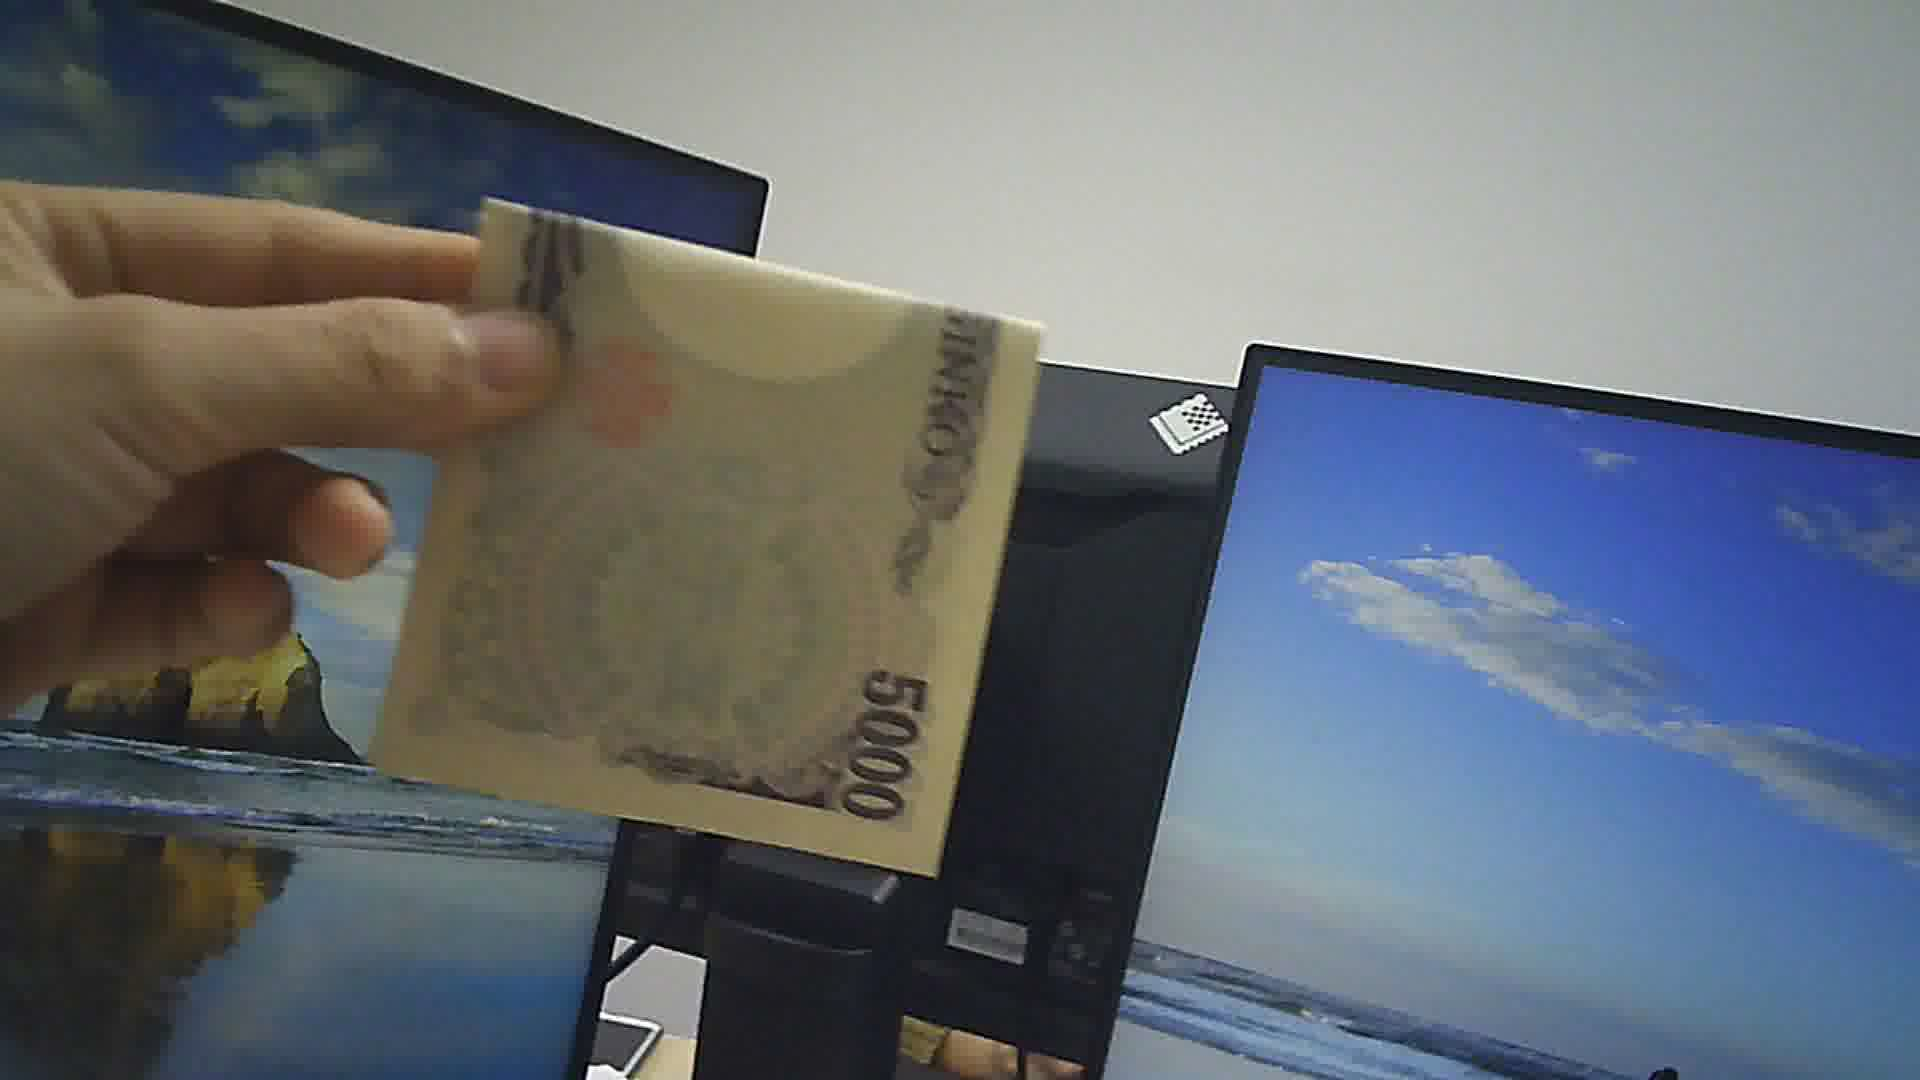5,000 Yen: (385, 174, 1050, 882)
